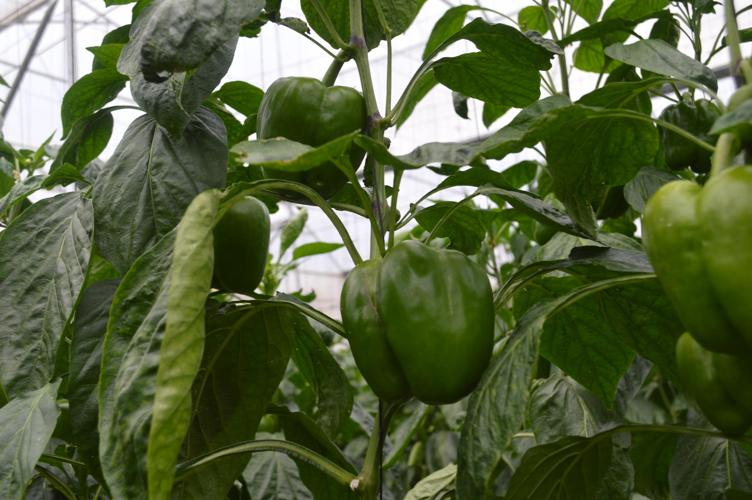BellPepper: (344, 241, 496, 401), (634, 165, 748, 354), (257, 76, 367, 193), (676, 338, 747, 444), (202, 195, 275, 294), (654, 98, 721, 172)
